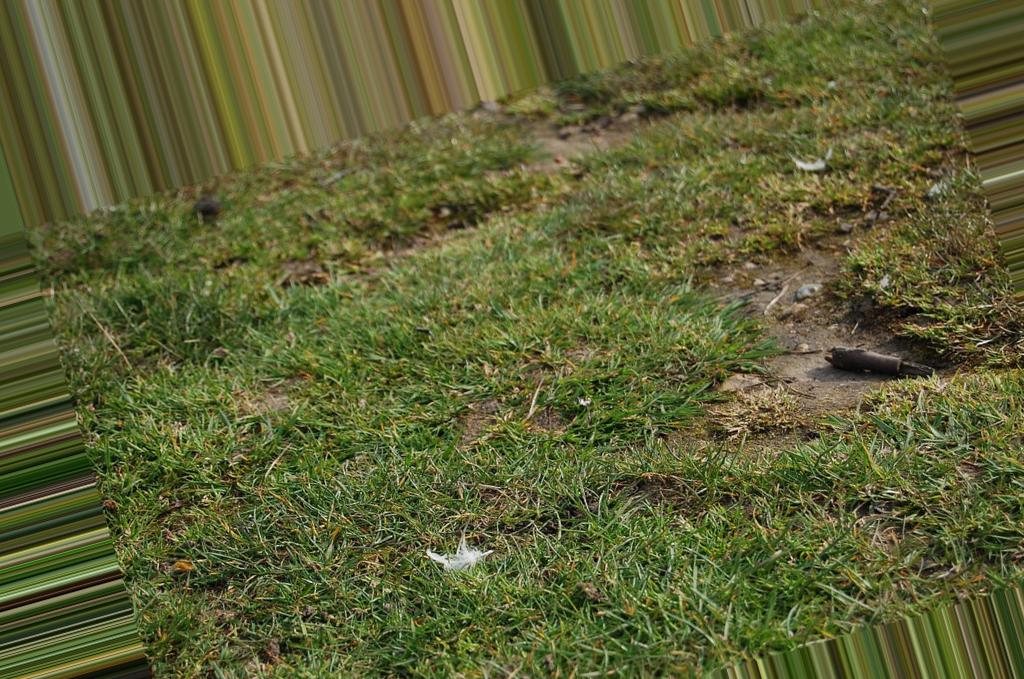patch: (743, 260, 867, 392), (397, 172, 579, 250), (512, 107, 641, 161), (669, 431, 807, 476), (461, 371, 518, 445), (225, 372, 301, 410), (266, 257, 351, 270)
